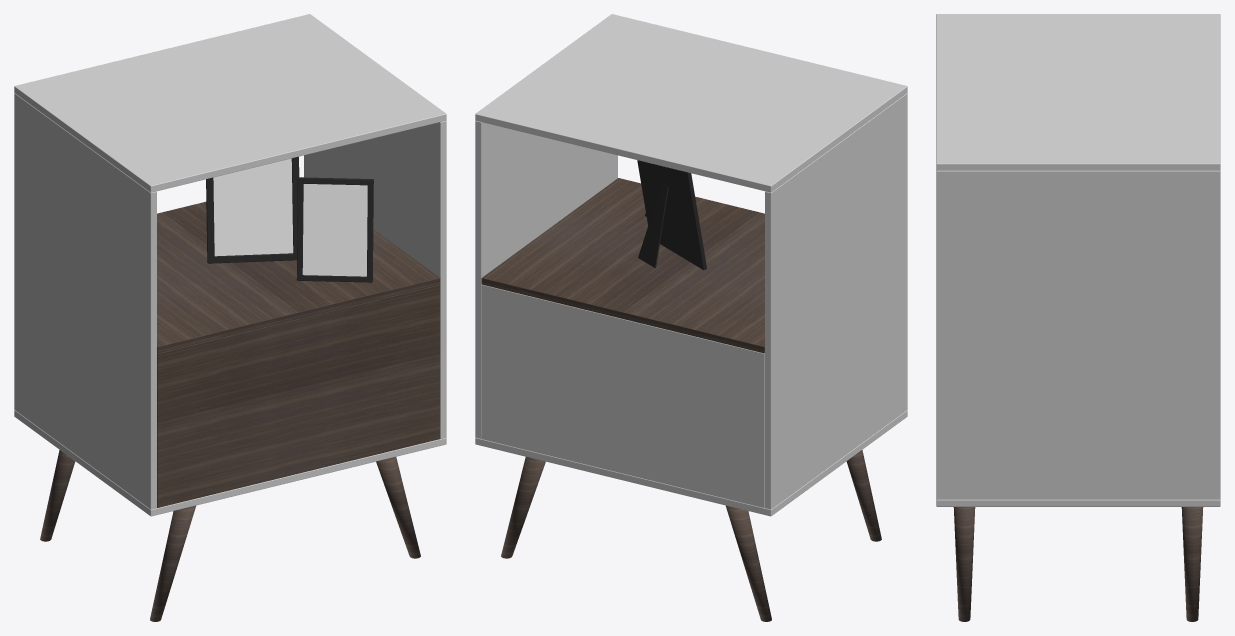
Rendered from example_model_4.glb.
The picture shows the model from 3 angles, left to right: view 1: azimuth 30°, elevation 25°; view 2: azimuth 150°, elevation 25°; view 3: azimuth 270°, elevation 25°; orthographic projection. The views are drawn at different scales.
Parts seen in each view (by area): view 1: Bedside Table.002; view 2: Bedside Table.002; view 3: Bedside Table.002.
Boxes of the visible parts, x1,y1,x2,y2 form: Bedside Table.002: (14, 14, 446, 621); Bedside Table.002: (475, 14, 907, 621); Bedside Table.002: (936, 14, 1220, 621).
Bounding box in the file's own units: 0.45 × 0.65 × 0.36.
6 materials, 3 textured.
